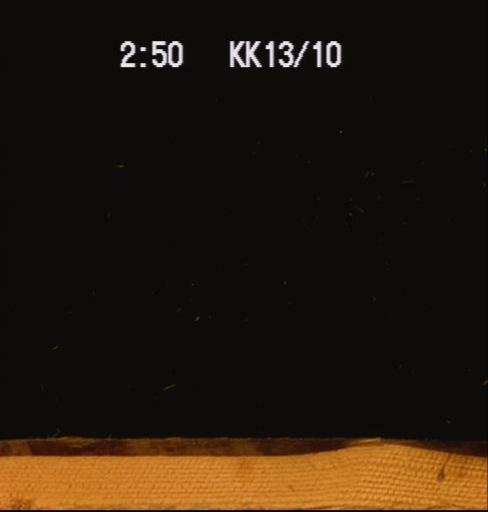wave: (0, 429, 486, 459)
